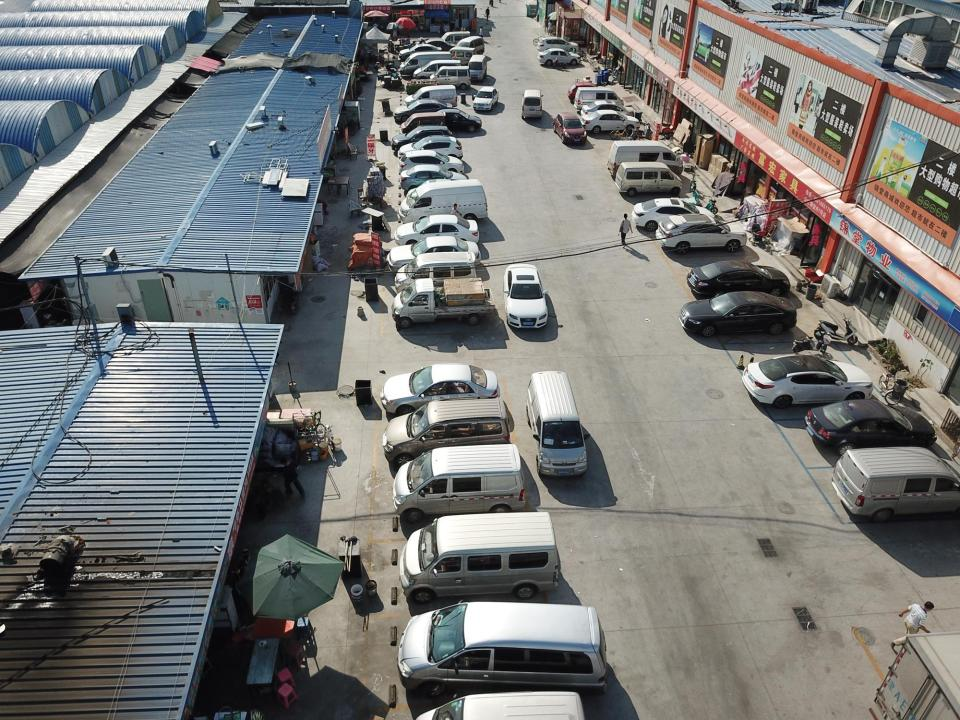car: (382, 398, 511, 467), (805, 400, 937, 455), (742, 354, 873, 408), (381, 363, 501, 418), (679, 291, 797, 336), (686, 260, 790, 298), (656, 214, 747, 254), (387, 236, 480, 272), (504, 264, 548, 328), (394, 213, 479, 246), (631, 198, 715, 231), (406, 179, 482, 207), (400, 165, 468, 193), (398, 149, 464, 176), (399, 135, 462, 162), (391, 126, 454, 151), (580, 109, 640, 134), (394, 99, 453, 122), (428, 108, 482, 132), (553, 112, 587, 144), (580, 100, 634, 118), (567, 82, 609, 104), (399, 43, 442, 61), (538, 48, 580, 65), (537, 37, 580, 53), (473, 87, 499, 111), (419, 38, 456, 53)
truck: (392, 280, 496, 328)
van: (398, 598, 608, 694), (400, 512, 559, 602), (392, 443, 526, 522), (831, 446, 956, 521), (526, 372, 590, 476), (396, 179, 487, 226), (395, 252, 476, 294), (608, 140, 683, 178), (615, 162, 682, 195), (400, 51, 451, 78), (404, 84, 458, 108), (574, 87, 624, 110), (400, 112, 447, 135), (414, 60, 460, 82), (429, 66, 471, 90), (520, 89, 543, 119), (454, 36, 484, 58), (446, 47, 476, 66), (467, 54, 487, 81), (440, 31, 470, 46)
